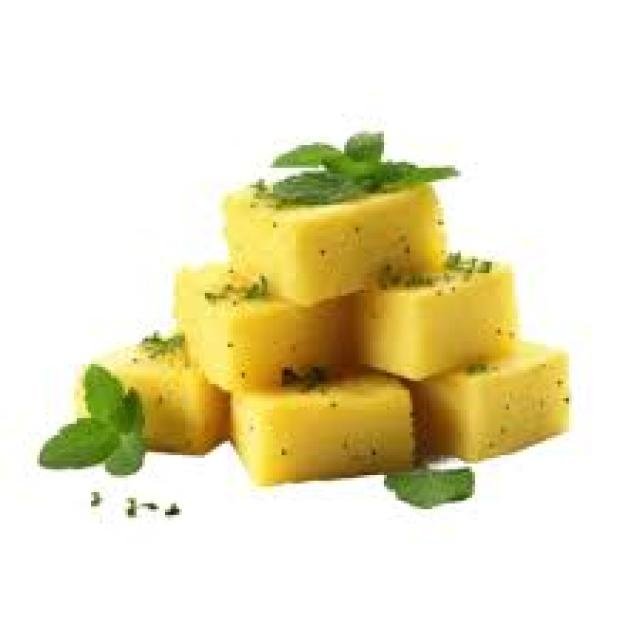DHOKLA: (223, 172, 443, 300), (181, 261, 344, 384), (223, 376, 411, 482), (357, 259, 517, 382), (88, 341, 225, 456), (428, 346, 569, 449)
